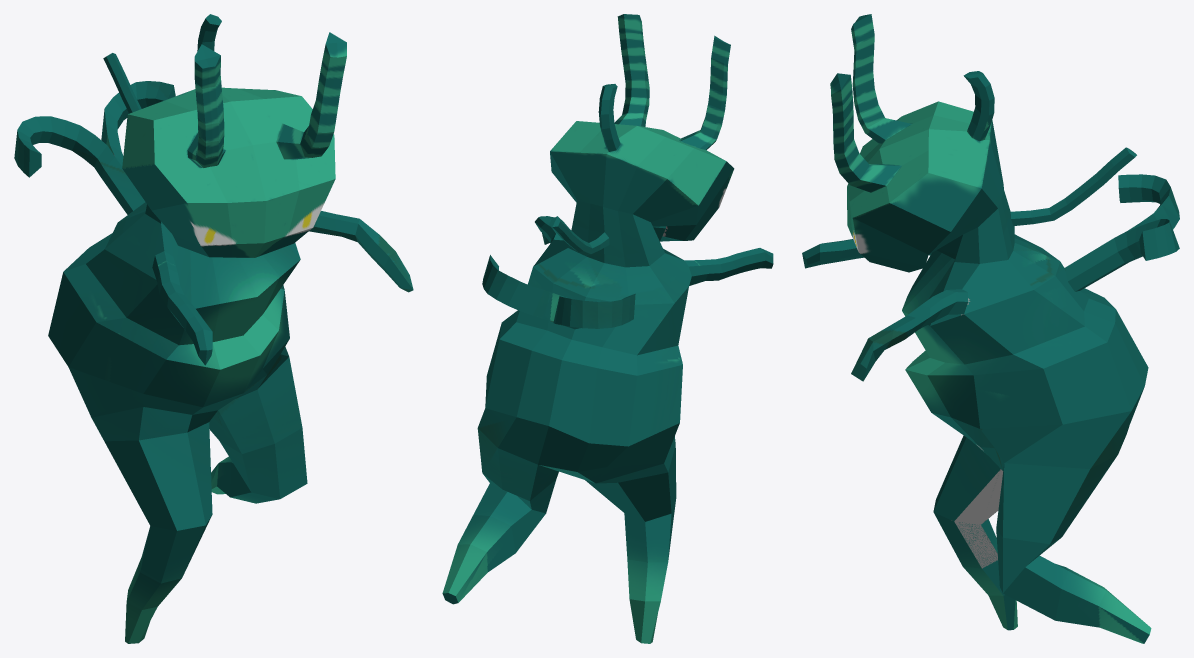
The model's file is monstruo1_caminar_108.obj.
The picture shows the model from 3 angles, left to right: view 1: azimuth 30°, elevation 25°; view 2: azimuth 150°, elevation 25°; view 3: azimuth 270°, elevation 25°; orthographic projection. The views are drawn at different scales.
Parts seen in each view (by area): view 1: Monstruo_basico; view 2: Monstruo_basico; view 3: Monstruo_basico.
Boxes of the visible parts, <box> form: Monstruo_basico: <box>14,14,413,643</box>; Monstruo_basico: <box>442,14,773,643</box>; Monstruo_basico: <box>802,14,1179,643</box>.
Bounding box in the file's own units: 0.3959 × 0.9858 × 0.5533.
